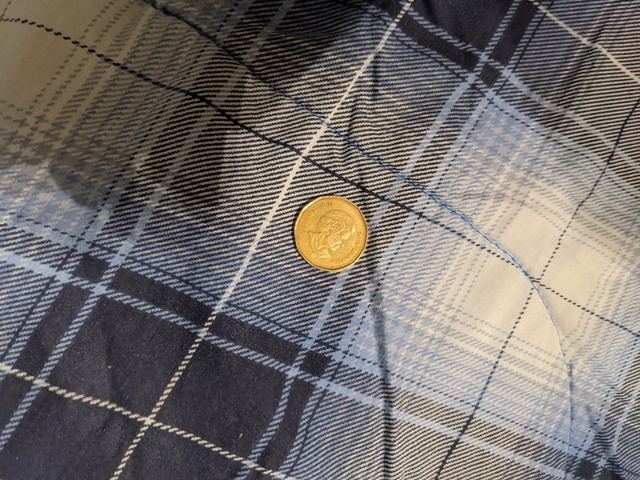loonie: (290, 194, 378, 272)
